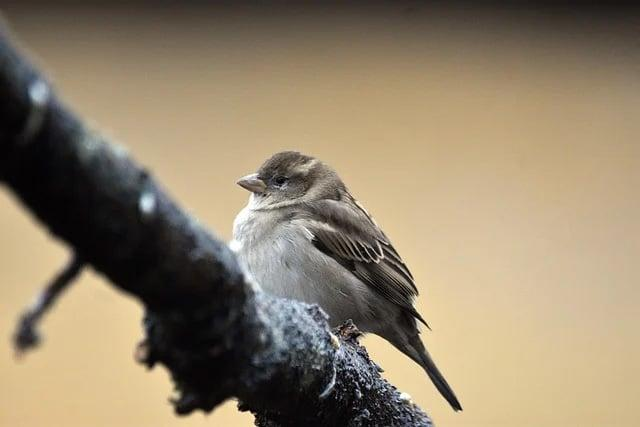bird: (232, 151, 461, 410)
